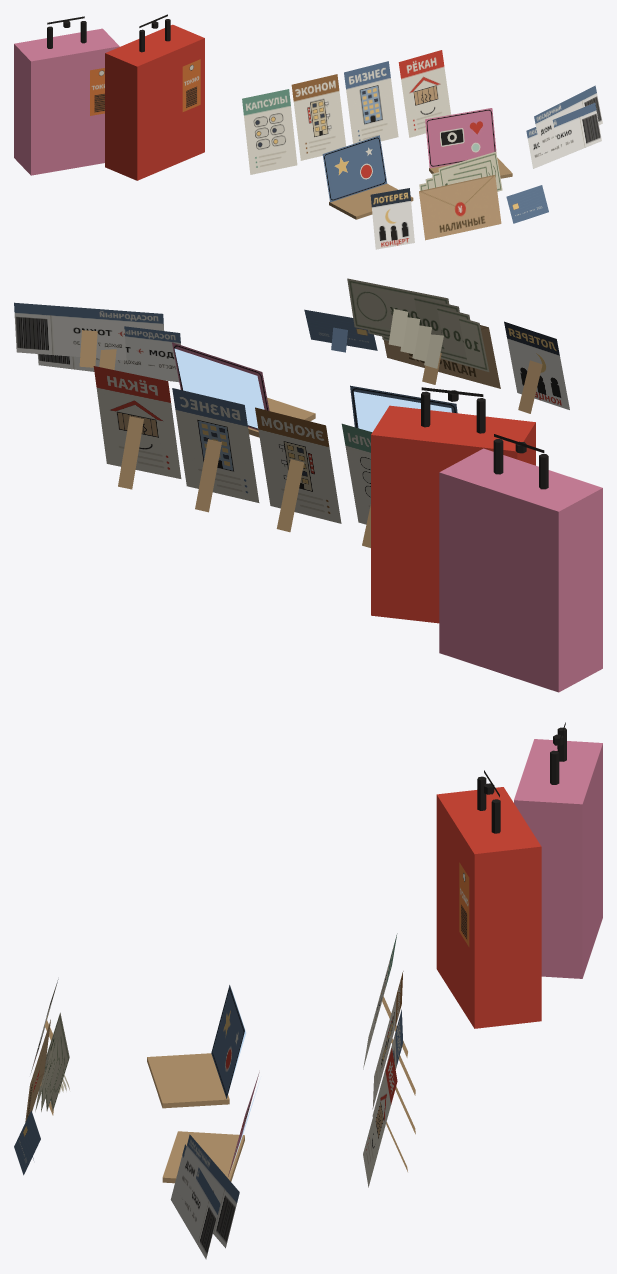
Rendered from desk.glb.
3 renders of one model, top to bottom at view 1: azimuth 30°, elevation 25°; view 2: azimuth 150°, elevation 25°; view 3: azimuth 270°, elevation 25°, orthographic. The views are drawn at different scales.
Visible parts, largest first — view 1: suitcase, suitcase_llama, laptop_goose, envelope, pass, brochure_capsule, brochure_econom, laptop_llama, brochure_business, brochure_ryokan, lottery, card (+3 smaller); view 2: suitcase_llama, suitcase, pass, brochure_ryokan, brochure_business, brochure_econom, laptop_llama, lottery, bills_4, brochure_capsule, laptop_goose, envelope (+4 smaller); view 3: suitcase, suitcase_llama, laptop_goose, pass, laptop_llama, brochure_ryokan, brochure_econom, card, envelope, bills_4.
Boxes of the visible parts, <box> form: suitcase: <box>105,14,204,180</box>; suitcase_llama: <box>14,16,119,175</box>; laptop_goose: <box>322,135,413,219</box>; envelope: <box>419,175,501,240</box>; pass: <box>526,85,602,168</box>; brochure_capsule: <box>242,89,297,174</box>; brochure_econom: <box>291,74,345,160</box>; laptop_llama: <box>425,108,512,178</box>; brochure_business: <box>344,61,398,143</box>; brochure_ryokan: <box>398,50,451,137</box>; lottery: <box>370,188,414,249</box>; card: <box>506,185,548,223</box>; suitcase_llama: <box>439,434,602,692</box>; suitcase: <box>371,387,535,623</box>; pass: <box>14,302,180,382</box>; brochure_ryokan: <box>93,366,181,489</box>; brochure_business: <box>172,388,259,512</box>; brochure_econom: <box>255,407,341,532</box>; laptop_llama: <box>172,342,315,437</box>; lottery: <box>504,321,569,413</box>; bills_4: <box>347,278,449,346</box>; brochure_capsule: <box>341,423,372,547</box>; laptop_goose: <box>350,385,457,432</box>; envelope: <box>383,325,500,388</box>; suitcase: <box>436,770,541,1028</box>; suitcase_llama: <box>514,722,602,978</box>; laptop_goose: <box>147,985,246,1108</box>; pass: <box>170,1134,239,1259</box>; laptop_llama: <box>162,1072,259,1183</box>; brochure_ryokan: <box>363,1048,407,1187</box>; brochure_econom: <box>372,971,415,1109</box>; card: <box>14,1110,40,1175</box>; envelope: <box>25,1019,53,1122</box>; bills_4: <box>44,1012,69,1111</box>.
Bounding box in the file's own units: 0.5398 × 0.152 × 0.382.
17 materials, 12 textured.
